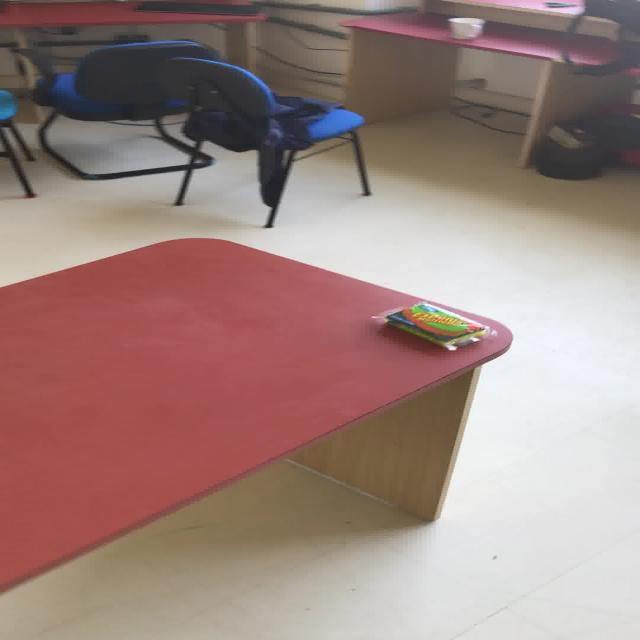sponge: (377, 301, 492, 350)
